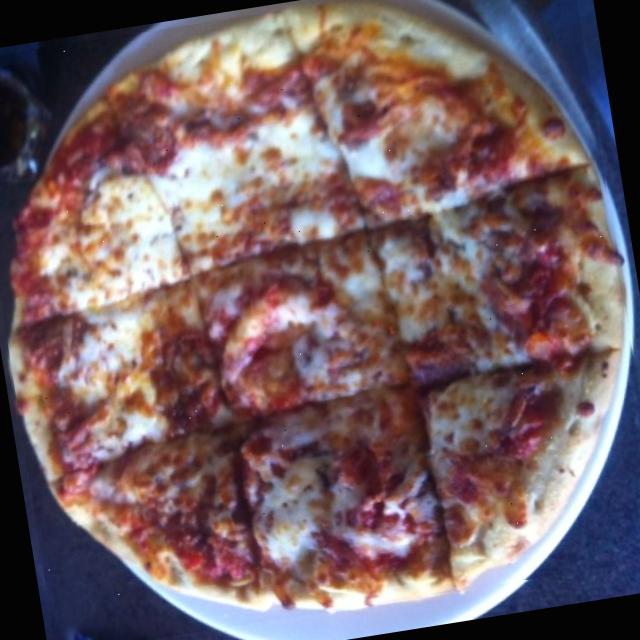pizza: (11, 4, 624, 610)
